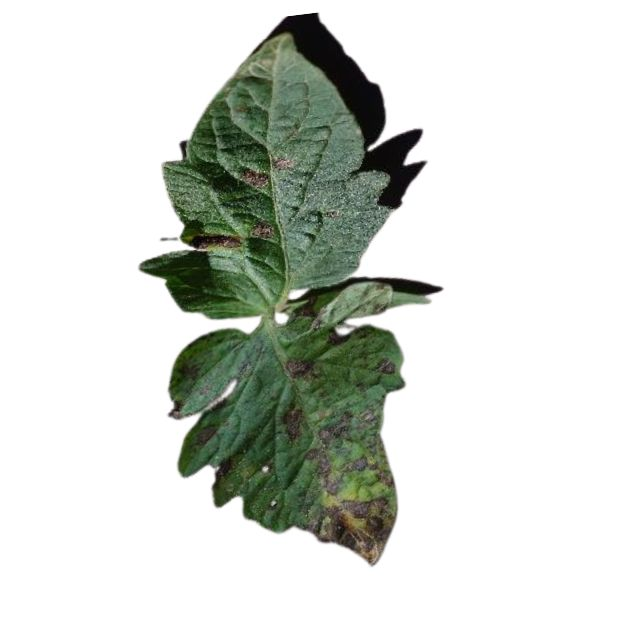Early_blight: (304, 496, 396, 564), (301, 446, 342, 496), (347, 456, 394, 489), (316, 407, 352, 443), (276, 397, 302, 439), (295, 296, 325, 330), (235, 167, 270, 194), (286, 356, 317, 384), (190, 233, 241, 250), (191, 421, 218, 449), (173, 363, 200, 386), (248, 217, 270, 242), (370, 357, 396, 375), (270, 154, 295, 172)
